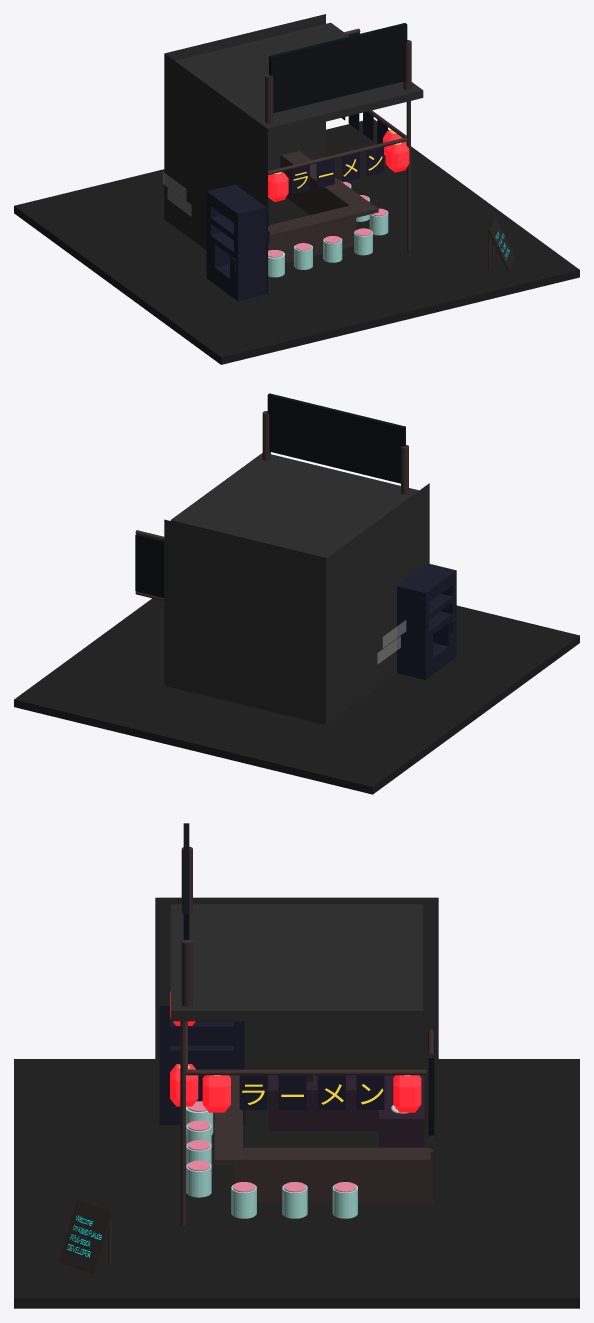
Rendered from ramen_shop.glb.
3 renders of one model, top to bottom at view 1: azimuth 30°, elevation 25°; view 2: azimuth 150°, elevation 25°; view 3: azimuth 270°, elevation 25°, orthographic. The views are drawn at different scales.
Visible parts, largest first — view 1: floor, house, teto, Cube.002, Cube.004, backTable_2, table_2, backTable_1, table_1, pole_right.001, pole_front, Cube (+3 smaller); view 2: house, floor, teto, Cube.002, Cube.004, Cube.003; view 3: floor, teto, house, backTable_1, Cube.004, Cube.001, table_1, Cube, oven, table_2, pole_right, pole_right.001 (+13 smaller).
Part boxes in pixels (x1,y1,x2,y2): floor: (14,119,579,364); house: (164,14,325,294); teto: (175,22,423,135); Cube.002: (269,23,407,113); Cube.004: (206,184,269,301); backTable_2: (268,218,354,262); table_2: (268,201,378,238); backTable_1: (280,155,356,230); table_1: (281,151,370,208); pole_right.001: (406,101,410,250); pole_front: (268,137,407,174); Cube: (488,216,515,270); house: (164,483,429,724); floor: (14,598,579,794); teto: (170,453,418,558); Cube.002: (267,393,405,483); Cube.004: (397,563,456,679); Cube.003: (135,534,164,598); floor: (14,1059,579,1308); teto: (170,904,423,1021); house: (155,897,438,1124); backTable_1: (235,1149,433,1202); Cube.004: (159,1006,244,1124); Cube.001: (268,1075,378,1131); table_1: (232,1147,430,1164); Cube: (59,1199,112,1274); oven: (379,1075,424,1147); table_2: (214,1075,242,1164); pole_right: (185,1069,426,1075); pole_right.001: (180,1021,185,1225).
Size of the model in its own units: 10 by 6.25 by 10.
